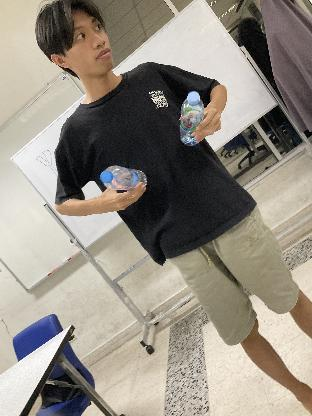Plastic Bottle: (180, 90, 206, 146), (101, 165, 149, 194)
